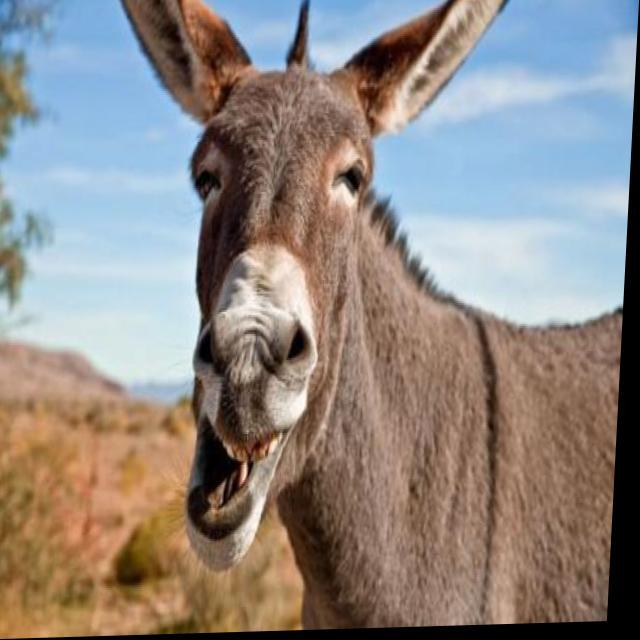Donkey: (92, 0, 640, 637)
